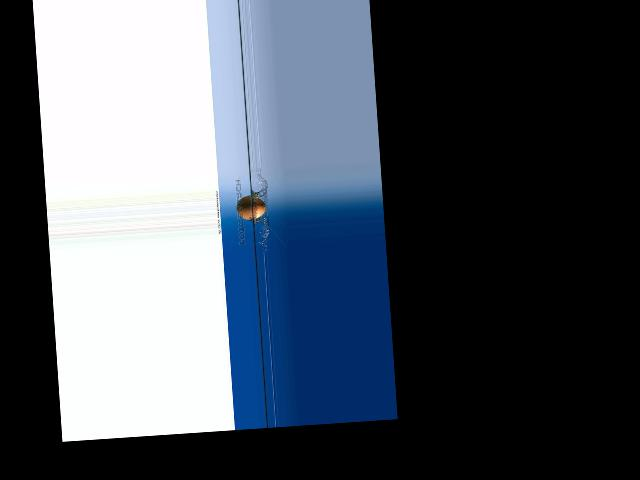egg: (235, 194, 266, 220)
